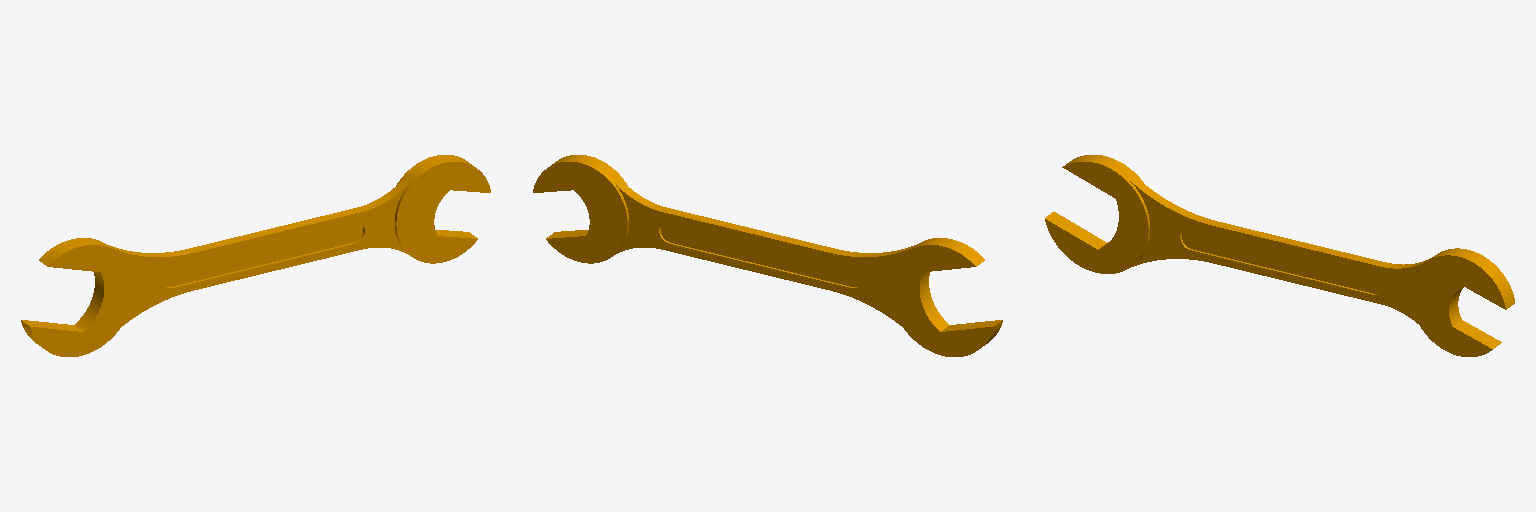
robot.urdf — wrench_2_L0.94_T0.93:
<?xml version="1.0" encoding="utf-8"?>
<robot name="wrench_2_L0.94_T0.93">
  <link name="wrench_2_L0.94_T0.93Link">
    <contact>
      <lateral_friction value="1"/>
    </contact>
    <inertial>
      <origin rpy="0 0 0" xyz="0 0 0"/>
      <mass value="0.0"/>
      <inertia ixx="0" ixy="0" ixz="0" iyy="0" iyz="0" izz="0"/>
    </inertial>
    <visual>
      <origin rpy="0 0 0" xyz="0 0 0"/>
      <geometry>
        <mesh filename="generated_stl/wrench/wrench_2/wrench_2_L0.94_T0.93/wrench_2_L0.94_T0.93.stl" scale="0.01 0.01 0.01"/>
      </geometry>
    </visual>
    <collision>
      <origin rpy="0 0 0" xyz="0 0 0"/>
      <geometry>
        <mesh filename="generated_stl/wrench/wrench_2/wrench_2_L0.94_T0.93/wrench_2_L0.94_T0.93.stl" scale="0.01 0.01 0.01"/>
      </geometry>
    </collision>
  </link>
</robot>

--- What the picture shows (computed from the rendered views, not written in the file) ---
3 views of the same robot in one strip: view 1: azimuth 30°, elevation 25°; view 2: azimuth 150°, elevation 25°; view 3: azimuth 330°, elevation 25° (orthographic).
Model wrench_2_L0.94_T0.93 with 1 links and 0 joints (none), rooted at wrench_2_L0.94_T0.93Link, posed every joint at zero.
Visible links, largest first — view 1: wrench_2_L0.94_T0.93Link; view 2: wrench_2_L0.94_T0.93Link; view 3: wrench_2_L0.94_T0.93Link.
Boxes of the visible links, x1,y1,x2,y2 form: wrench_2_L0.94_T0.93Link: (21,155,490,356); wrench_2_L0.94_T0.93Link: (533,155,1002,356); wrench_2_L0.94_T0.93Link: (1045,155,1514,356).
Bounding box of the posed robot: 0.075 × 0.0027 × 0.017 m (x, y, z).
1 mesh visuals loaded from 1 distinct referenced files (1 binary STL).